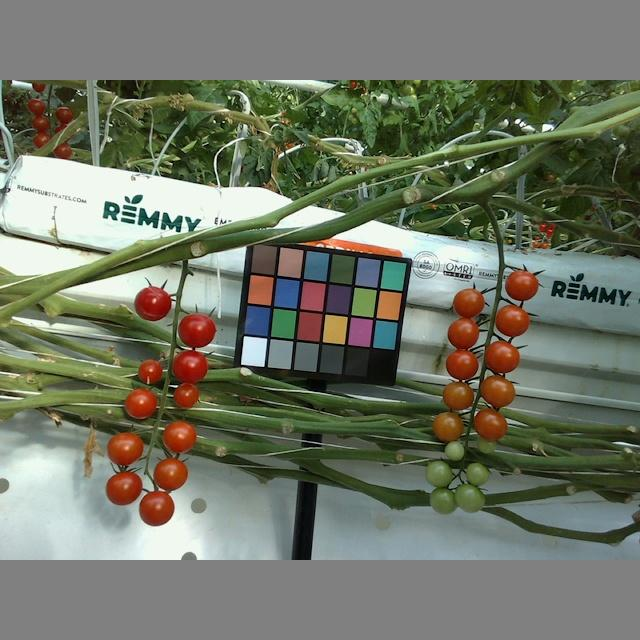green: (429, 485, 459, 516), (455, 484, 485, 512), (424, 461, 454, 488), (463, 460, 490, 485), (443, 440, 466, 462)
pink: (483, 340, 522, 374), (473, 407, 509, 441), (442, 378, 475, 412), (496, 306, 532, 337), (480, 376, 515, 407), (505, 269, 537, 302), (448, 314, 480, 347), (445, 348, 478, 379), (432, 412, 464, 443), (453, 288, 486, 317)
red: (171, 350, 211, 384), (134, 286, 172, 321), (104, 471, 142, 506), (177, 315, 217, 347), (106, 431, 143, 465), (152, 457, 188, 491), (140, 490, 174, 524), (163, 422, 198, 454), (125, 388, 156, 420), (171, 383, 197, 410), (140, 358, 163, 385)
